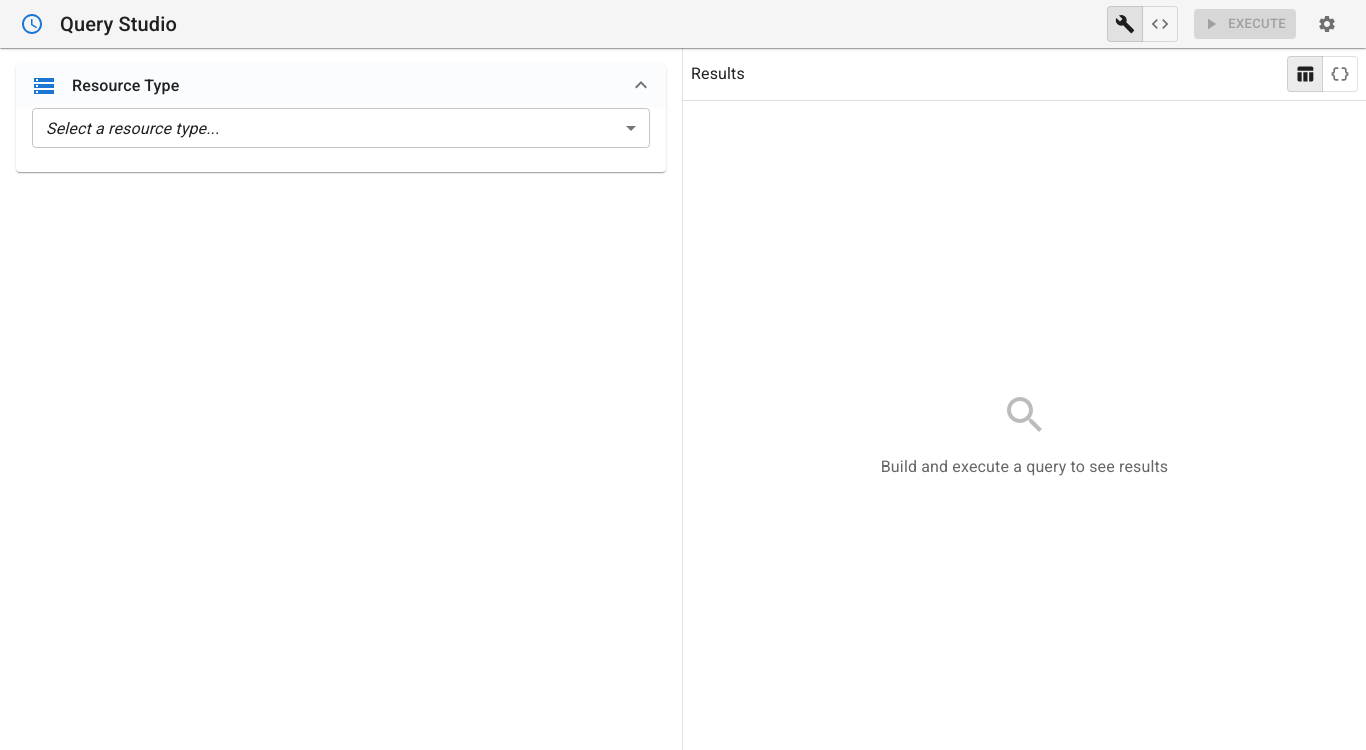
Test: QueryStudioEnhanced › Smart Parameter Suggestions › shows critical suggestions for required parameters
This screenshot has width=1366, height=750.
// Select Observation resource
Press the mouse on the dropdown: (133, 128) [46,118,219,138]
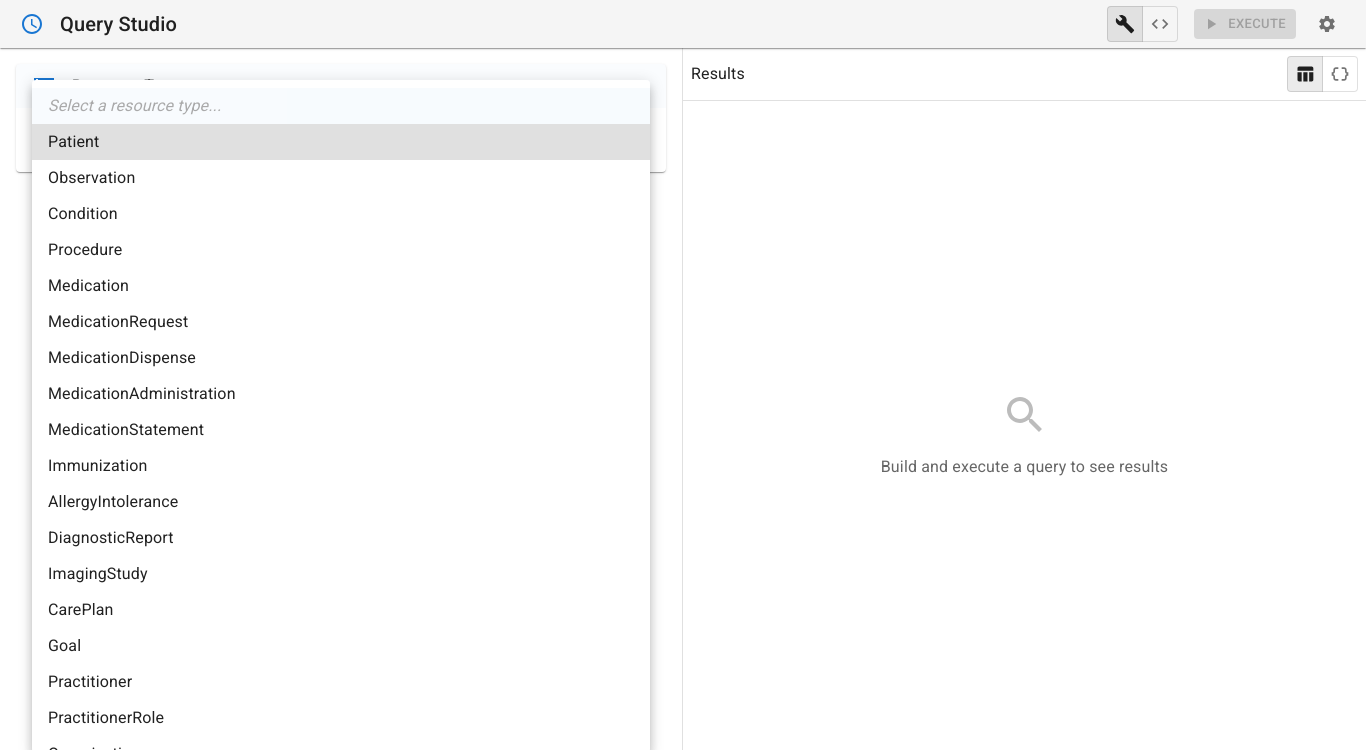
Click the option "Observation": (92, 178) [48,168,135,187]
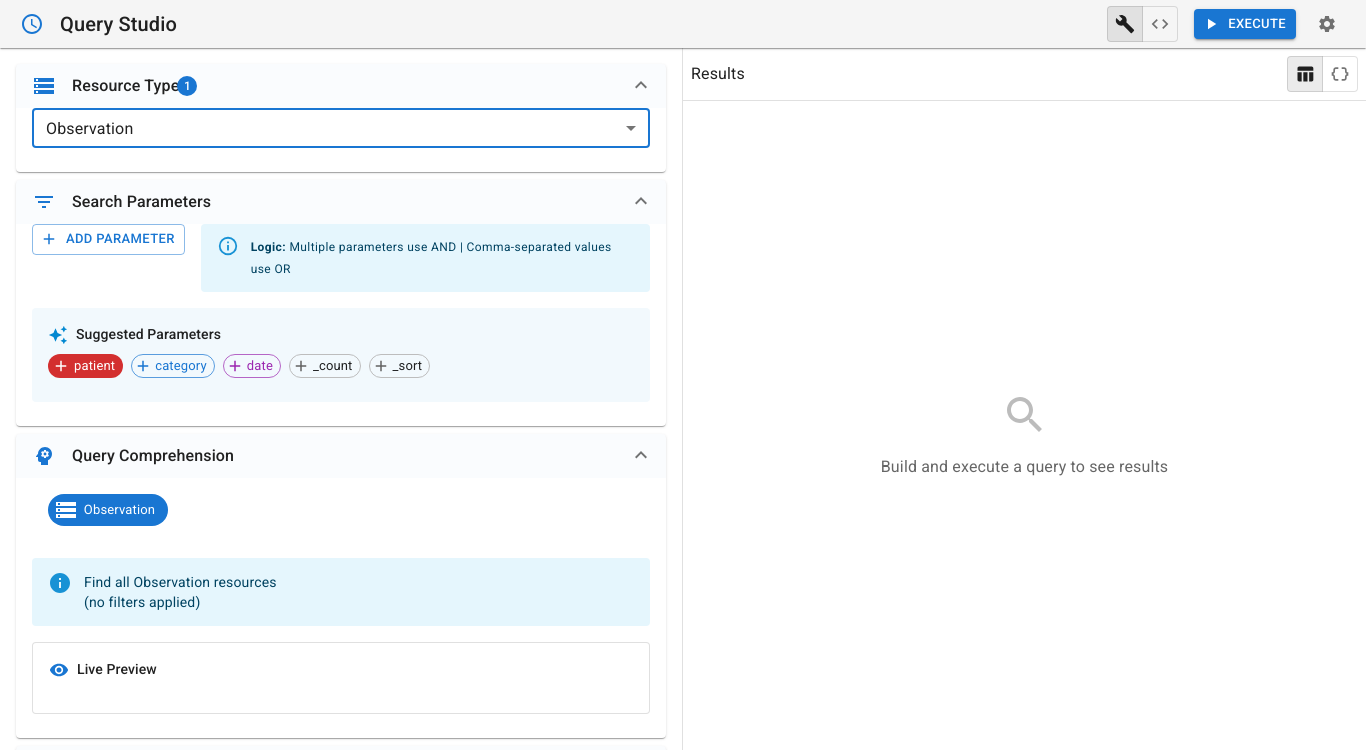
Expected: the heading "Suggested Parameters" is shown, [76,324,221,346]
